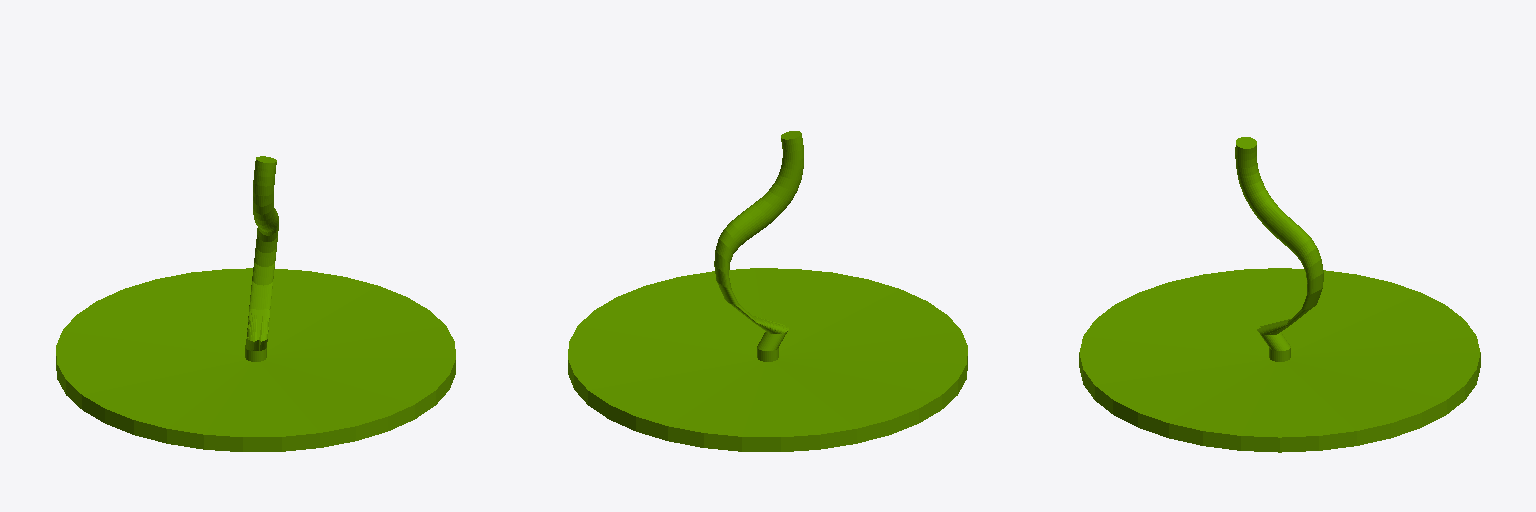
The model's file is ihavenoidea.obj.
The picture shows the model from 3 angles: view 1: azimuth 30°, elevation 25°; view 2: azimuth 150°, elevation 25°; view 3: azimuth 270°, elevation 25°; orthographic projection.
Parts seen in each view (by area): view 1: Cylinder; view 2: Cylinder; view 3: Cylinder.
Boxes of the visible parts, x1=… form: Cylinder: x1=56, y1=156, x2=455, y2=451; Cylinder: x1=568, y1=131, x2=967, y2=451; Cylinder: x1=1079, y1=137, x2=1480, y2=452.
Bounding box in the file's own units: 37.55 × 23.09 × 37.55.